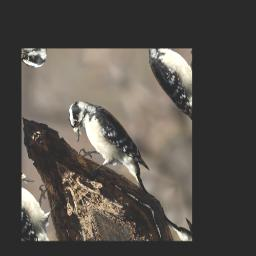Woodpecker: (54, 87, 164, 215)
